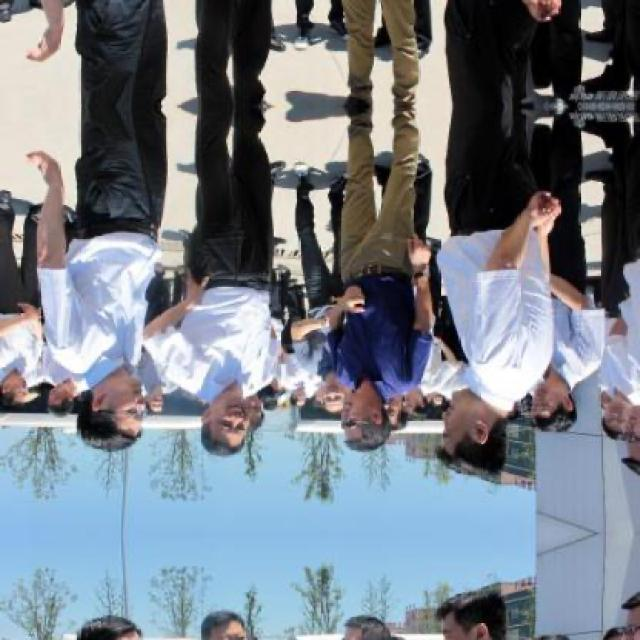sin casco: (70, 348, 216, 466), (432, 383, 584, 483), (181, 407, 262, 468), (305, 397, 377, 462), (535, 365, 576, 431)
